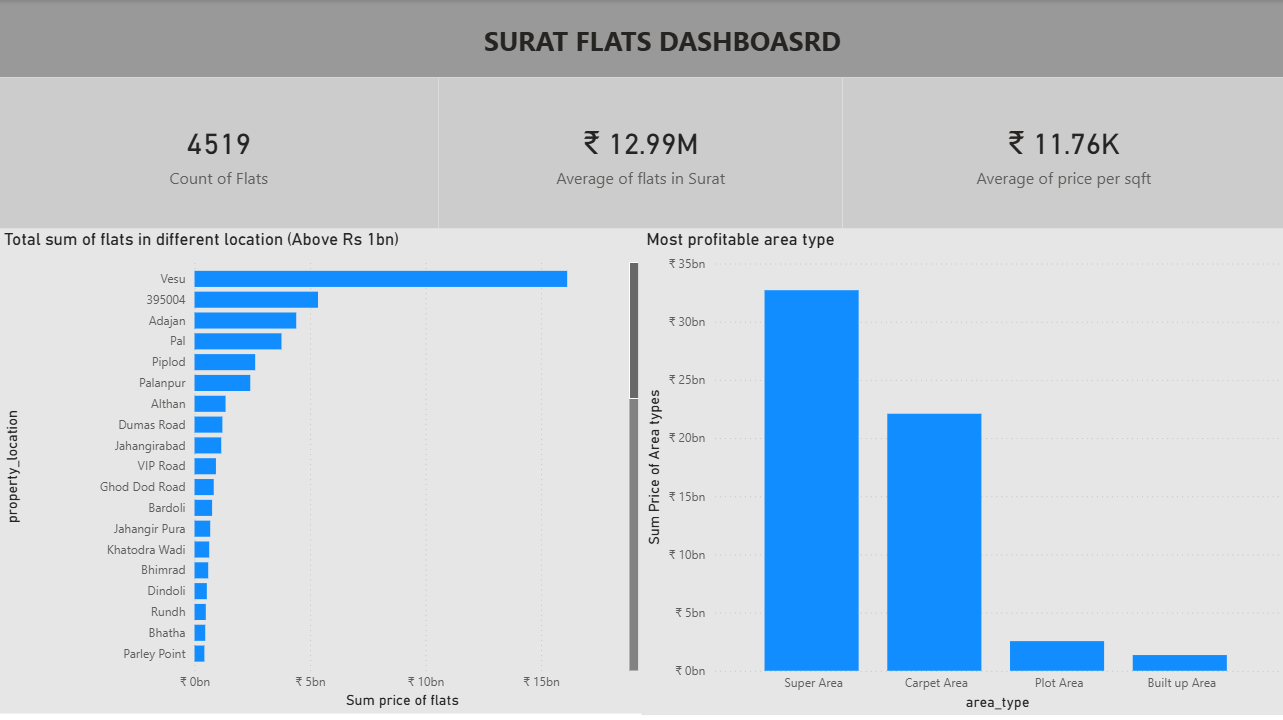

The page's visual inventory and layout, read from the dashboard file:
{"tool":"powerbi","page":{"name":"SURAT FLATS","canvas":[1280,720],"ordinal":0},"visuals":[{"type":"card","fields":{"Values":["CountNonNull(surat_cleaned_01.property_name)"]},"box":[0,77.1,437.9,150.5],"z":0},{"type":"card","fields":{"Values":["Avg(surat_cleaned_01.price_val)"]},"box":[437.9,77.1,401.8,150.5],"z":1000},{"type":"card","fields":{"Values":["Avg(surat_cleaned_01.price_per_sqft_val)"]},"box":[839.7,77.1,440.4,150.5],"z":2000},{"type":"clusteredBarChart","title":"Total sum of flats in different location (Above Rs 1bn)","fields":{"Category":["surat_cleaned_01.property_location"],"Y":["Sum(surat_cleaned_01.price_val)"]},"box":[0,227.6,640.6,482.7],"z":3000},{"type":"textbox","box":[0,0,1280,77.1],"z":3001},{"type":"columnChart","title":"Most profitable area type","fields":{"Category":["surat_cleaned_01.area_type"],"Y":["Sum(surat_cleaned_01.price_val)"]},"box":[639.4,227.6,640.6,483.9],"z":3002}]}

Visuals, with their boxes in screenshot pixels (x1, y1, x2, y2), scaled from the page's 1280x720 canvas onto the 1283x720 screenshot:
card - CountNonNull(surat_cleaned_01.property_name): select_region(0, 77, 439, 228)
card - Avg(surat_cleaned_01.price_val): select_region(439, 77, 842, 228)
card - Avg(surat_cleaned_01.price_per_sqft_val): select_region(842, 77, 1282, 228)
"Total sum of flats in different location (Above Rs 1bn)" clusteredBarChart: select_region(0, 228, 642, 710)
textbox: select_region(0, 0, 1282, 77)
"Most profitable area type" columnChart: select_region(641, 228, 1282, 712)
